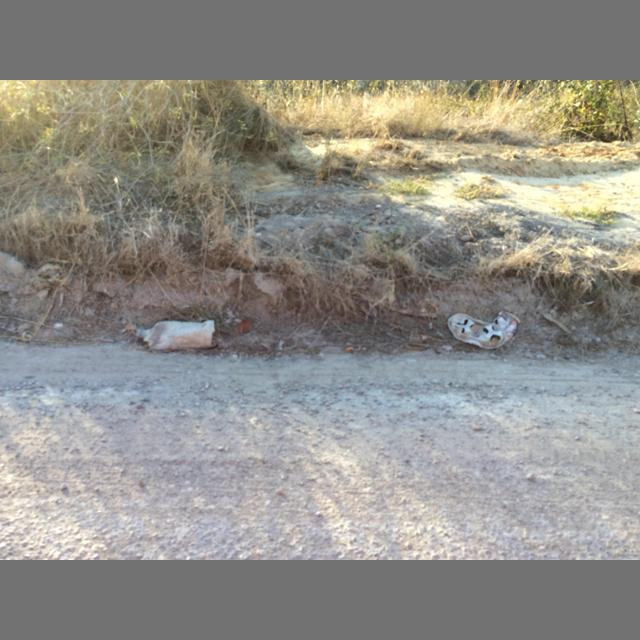litter: (136, 320, 220, 352), (448, 313, 506, 349), (493, 311, 518, 340)
